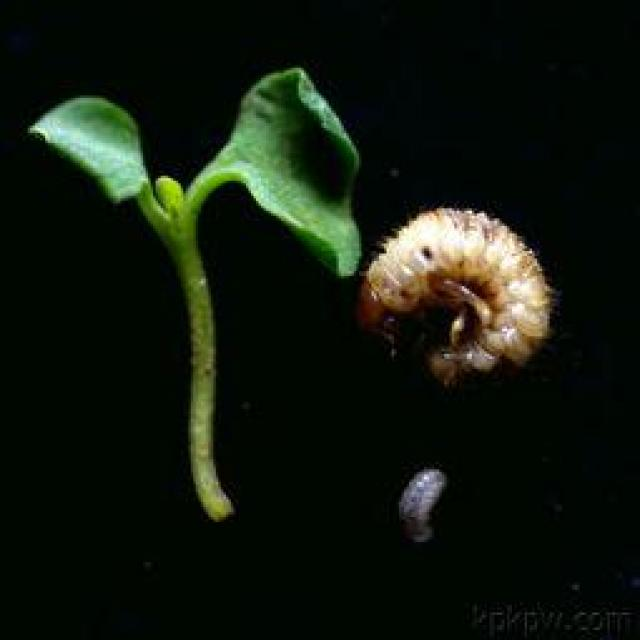Grub-Adult-: (353, 189, 564, 396)
